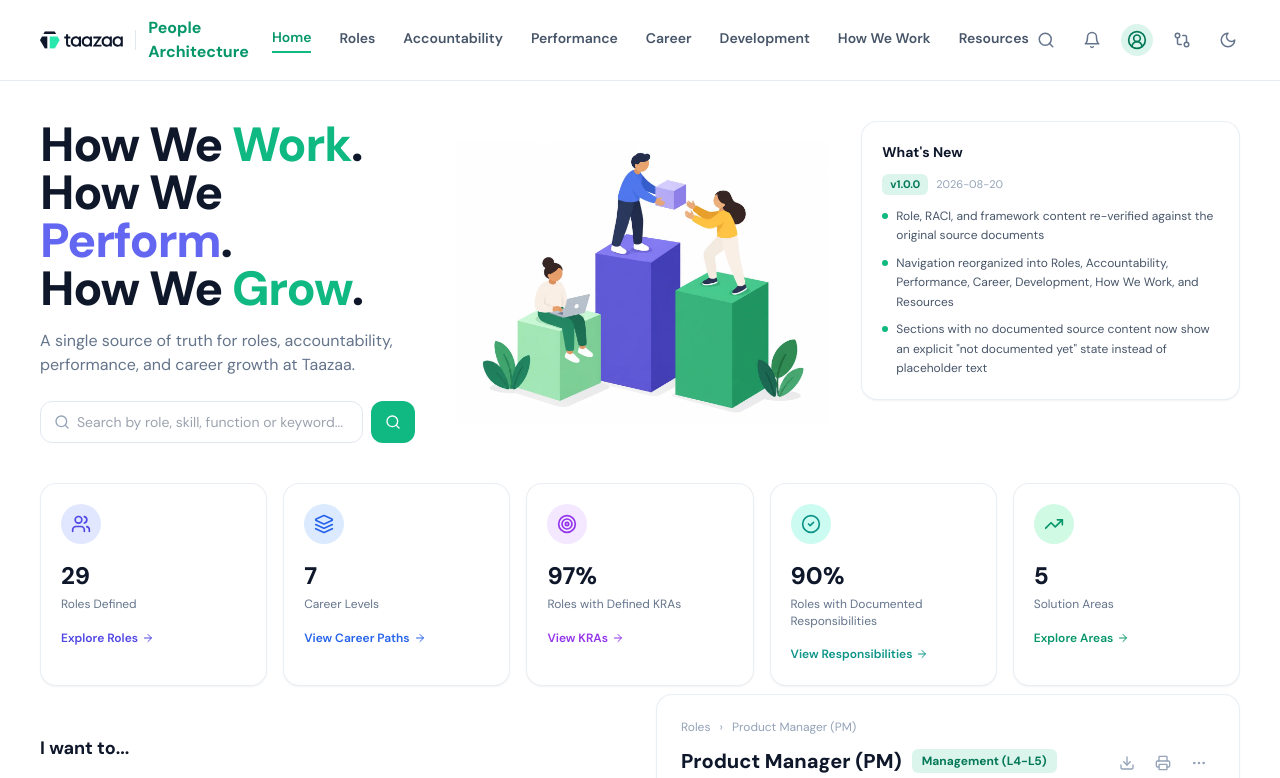
Test: App global search shortcut › typing a query on Home and pressing Enter in the search box navigates to filtered Roles results
In the field with placeholder "Search by role, skill, function or keyword...": x=201, y=422 [40, 401, 363, 443], type "Engineer"
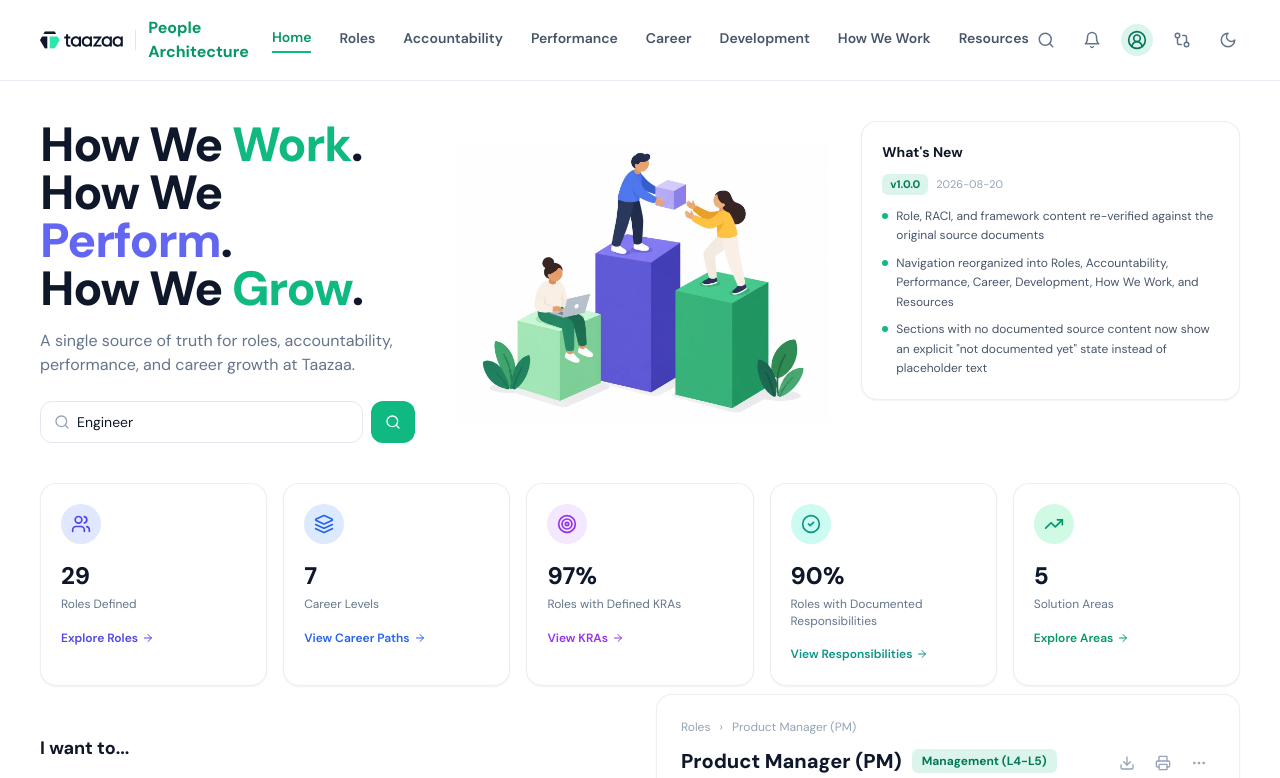
Press Enter in the field with placeholder "Search by role, skill, function or keyword...", box [40, 401, 363, 443]
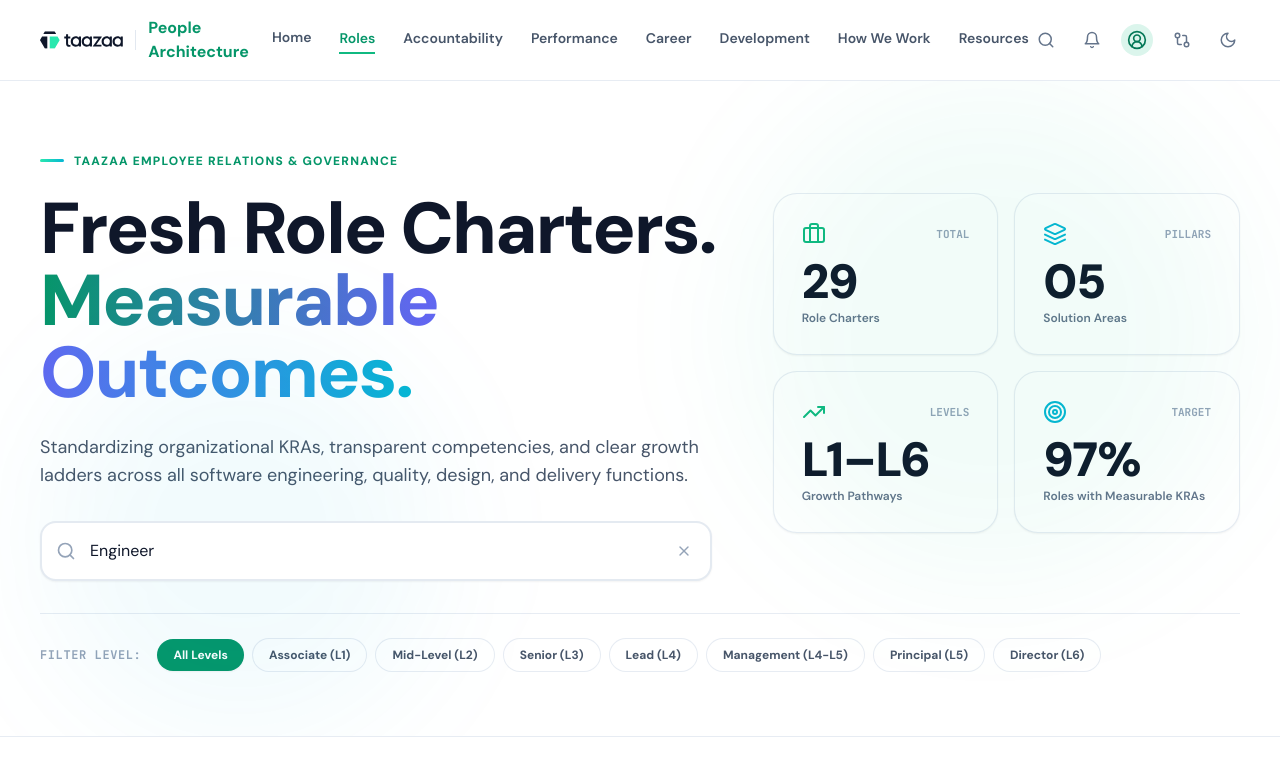
Check: the field with placeholder "Search by role, skill, accountability" is shown, box [40, 521, 712, 581]
